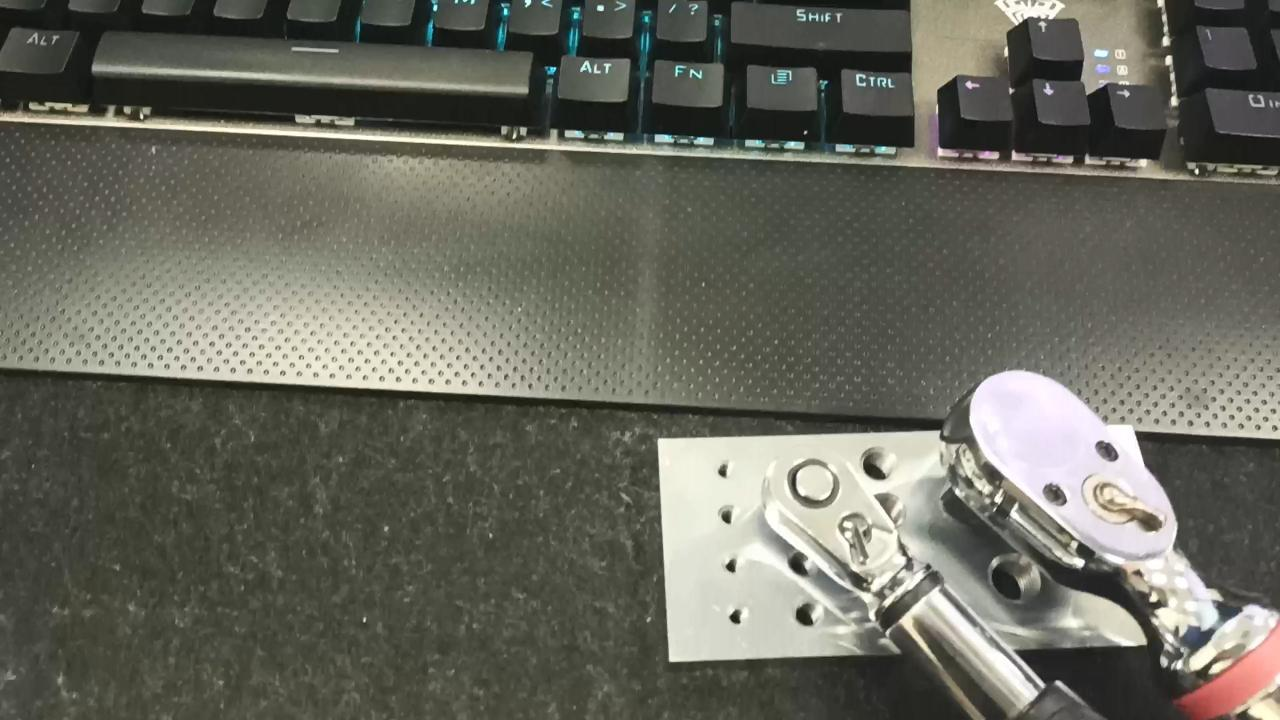Tool: (934, 357, 1280, 679), (768, 453, 918, 601)
